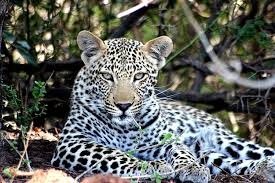leopard: (49, 27, 275, 181)
